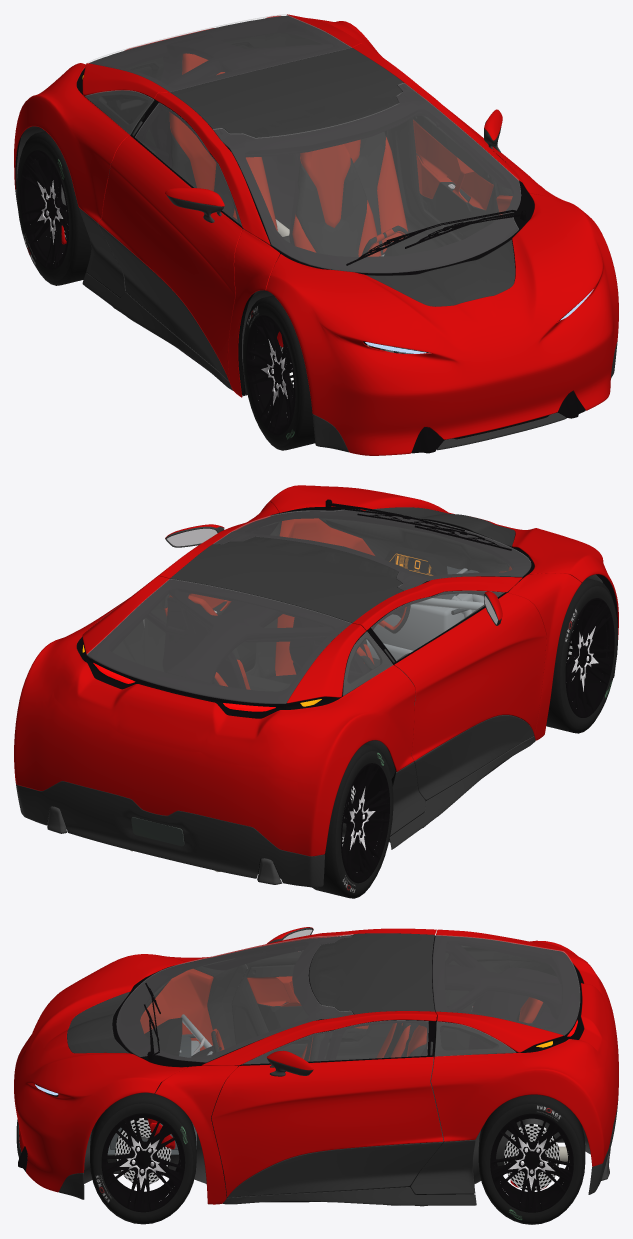
The model's file is hatch.glb.
The picture shows the model from 3 angles, top to bottom: view 1: azimuth 30°, elevation 25°; view 2: azimuth 150°, elevation 25°; view 3: azimuth 270°, elevation 25°; orthographic projection. The views are drawn at different scales.
Visible parts, largest first — view 1: glass_BodyWindshield, panel_hood.001, panel_BodyDoorRColor1, panel_bumper_front, panel_BodyRoofPanel, BodyWindshieldGasket, glass_BodyRearwindow, panel_rear_quarter_L, panel_front_fender_L, InteriorSeatsColor1, panel_BodyPillars, InteriorSeatsColor2 (+26 smaller); view 2: panel_rear_quarter_L, glass_BodyRearwindow, panel_rear_quarter_R, panel_BodyPanelsColor2, panel_BodyDoorRColor1, panel_BodyRoofPanel, glass_BodyWindshield, panel_bumper_rear.001, panel_BodyPillars, InteriorRearHatch, InteriorPillar, BodyWindshieldGasket (+27 smaller); view 3: panel_BodyDoorLColor1, glass_BodyWindshield, panel_rear_quarter_R, glass_BodyRearwindow, panel_BodyRoofPanel, panel_hood.001, panel_BodyPillars, panel_BodyDoorLColor2, panel_BodyPanelsColor2, BodyWindshieldGasket, panel_front_fender_R, WheelRearLRim (+29 smaller).
Boxes of the visible parts, x1,y1,x2,y2 form: glass_BodyWindshield: (213,83,520,272); panel_hood.001: (304,209,606,404); panel_BodyDoorRColor1: (98,135,242,381); panel_bumper_front: (309,316,618,455); panel_BodyRoofPanel: (170,48,403,138); BodyWindshieldGasket: (214,84,534,275); glass_BodyRearwindow: (87,14,351,91); panel_rear_quarter_L: (14,37,172,213); panel_front_fender_L: (266,254,378,403); InteriorSeatsColor1: (169,53,408,256); panel_BodyPillars: (154,43,565,397); InteriorSeatsColor2: (170,131,385,256); panel_rear_quarter_L: (154,623,415,818); glass_BodyRearwindow: (87,579,351,703); panel_rear_quarter_R: (14,576,175,784); panel_BodyPanelsColor2: (15,669,615,887); panel_BodyDoorRColor1: (394,592,546,760); panel_BodyRoofPanel: (170,536,402,623); glass_BodyWindshield: (214,510,530,590); panel_bumper_rear.001: (14,735,413,856); panel_BodyPillars: (158,501,581,740); InteriorRearHatch: (87,579,364,709); InteriorPillar: (166,580,400,683); BodyWindshieldGasket: (215,509,534,590); panel_BodyDoorLColor1: (211,1056,443,1197); glass_BodyWindshield: (116,934,353,1062); panel_rear_quarter_R: (431,1000,618,1134); glass_BodyRearwindow: (432,935,579,1035); panel_BodyRoofPanel: (309,933,434,1014); panel_hood.001: (14,968,162,1137); panel_BodyPillars: (155,928,436,1204); panel_BodyDoorLColor2: (228,1142,443,1197); panel_BodyPanelsColor2: (16,1095,618,1206); BodyWindshieldGasket: (112,935,352,1067); panel_front_fender_R: (36,1065,187,1157); WheelRearLRim: (490,1113,573,1212).
Size of the model in its own units: 2.11 by 1.32 by 3.83.
28 materials, 5 textured.
